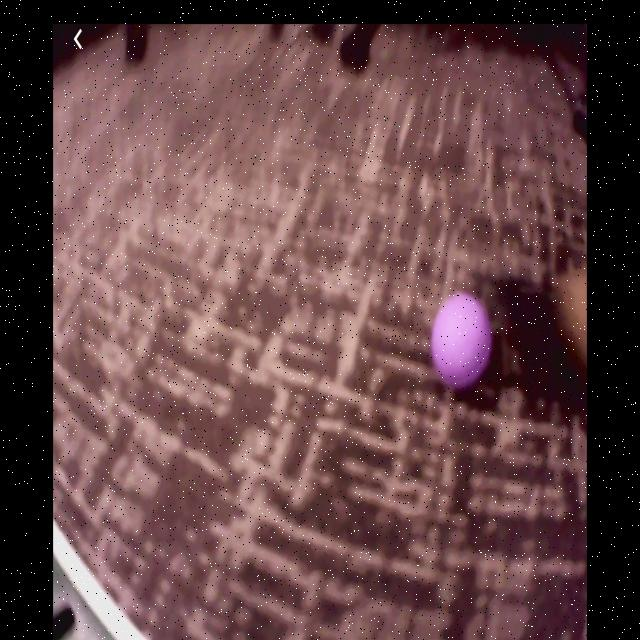ball: (432, 295, 492, 387)
